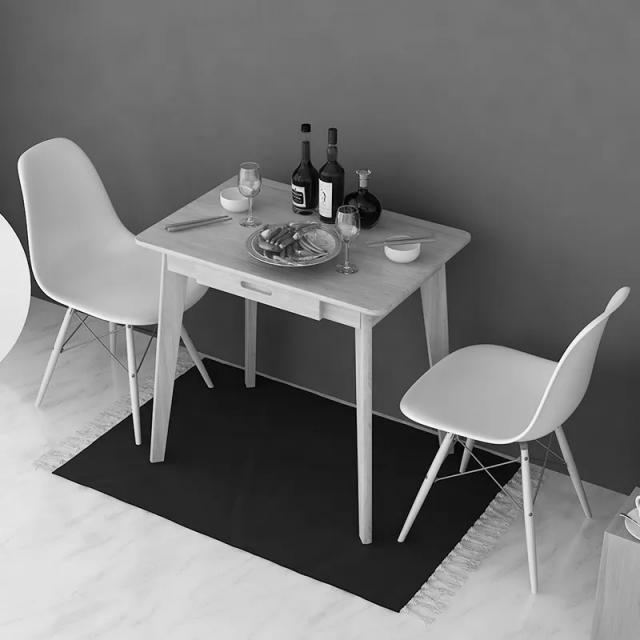table: (130, 148, 480, 349)
